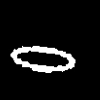chain: (11, 46, 74, 72)
